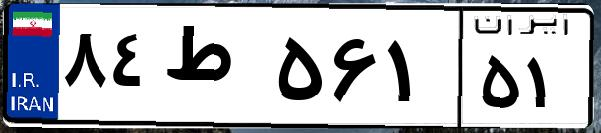1: (385, 28, 445, 110), (525, 38, 570, 115)
4: (110, 28, 158, 98)
5: (270, 28, 330, 110), (475, 38, 525, 113)
6: (330, 28, 385, 110)
8: (57, 26, 110, 100)
ط: (158, 20, 270, 120)
